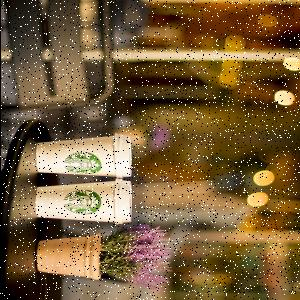Cup: (36, 180, 134, 227), (37, 133, 133, 180)
